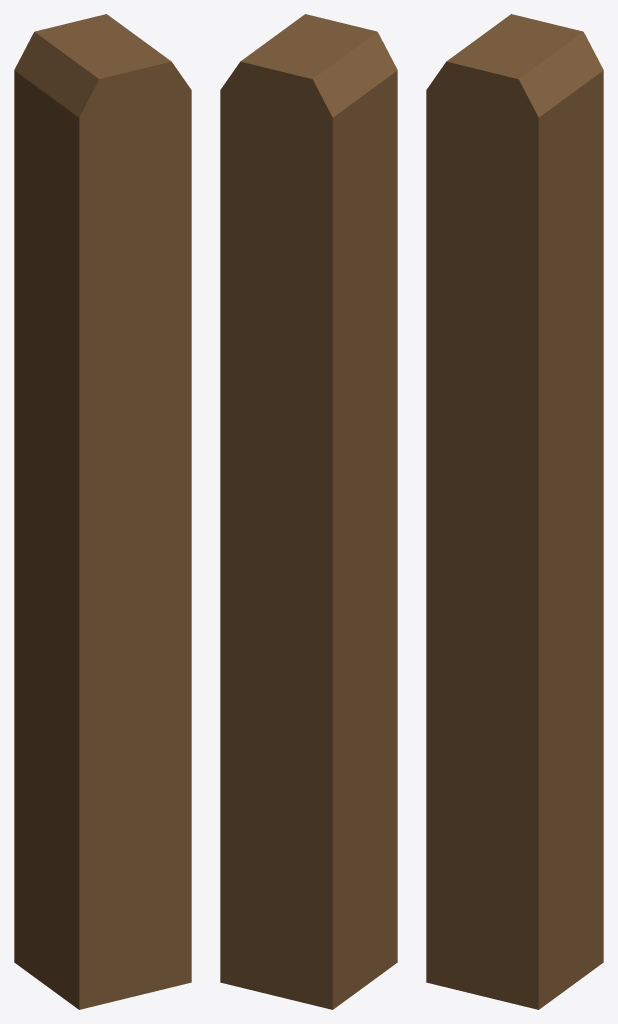
File: TW_WOOD_POST_A_LOD0.glb
3 views of the same model, side by side, from view 1: azimuth 30°, elevation 25°; view 2: azimuth 150°, elevation 25°; view 3: azimuth 330°, elevation 25° (orthographic).
Parts seen in each view (by area): view 1: TW_WOOD_POST_A_LOD0; view 2: TW_WOOD_POST_A_LOD0; view 3: TW_WOOD_POST_A_LOD0.
Part boxes in pixels (box(x1,y1,x2,y2)): TW_WOOD_POST_A_LOD0: box(14, 14, 191, 1009); TW_WOOD_POST_A_LOD0: box(220, 14, 397, 1009); TW_WOOD_POST_A_LOD0: box(426, 14, 603, 1009).
Size of the model in its own units: 0.14 by 1.1 by 0.14.
Materials: 1 (1 with a texture image).
